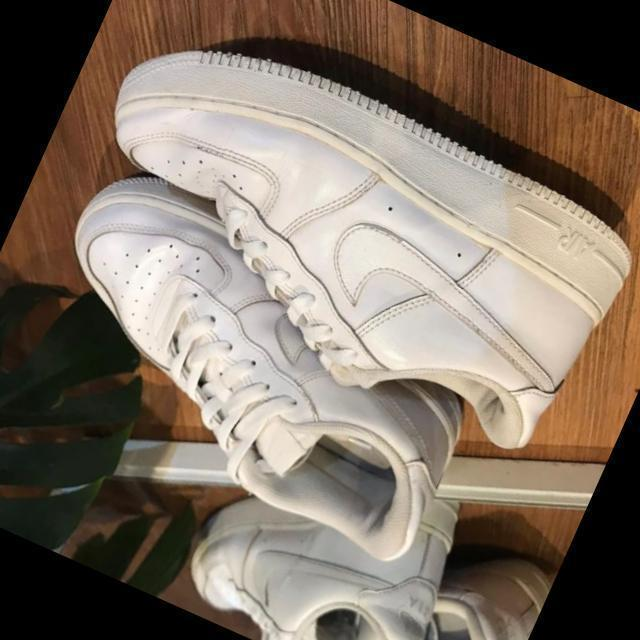nike fake air force: (46, 2, 640, 469), (0, 155, 512, 578)
